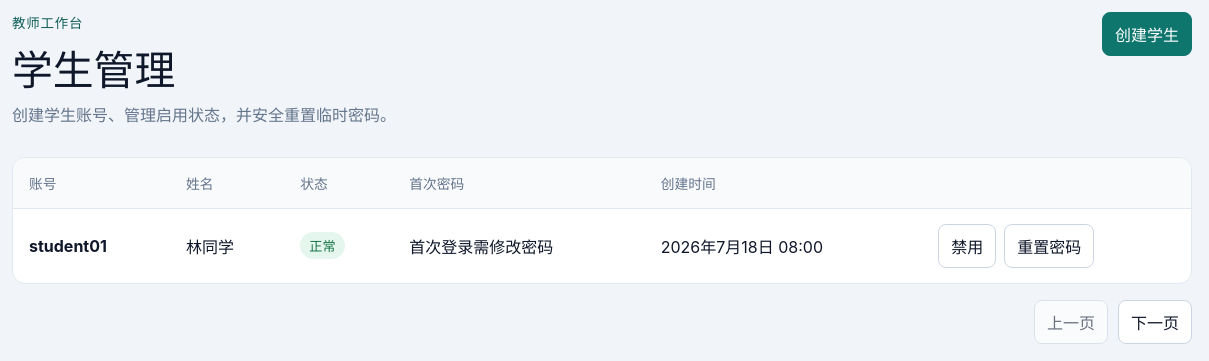
StudentListView › uses bounded keyset pagination and renders realistic status states
Click the button with aria-label "下一页学生".
click(1155, 322)  # box [1118,300,1192,344]
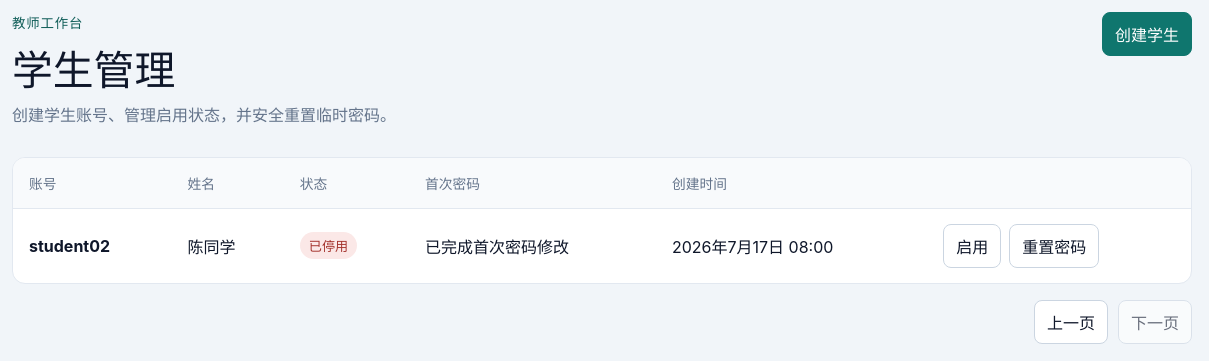
Now the text "已停用" is shown, box [300,232,357,259]
Now the text "已完成首次密码修改" is shown, box [425,237,569,257]
